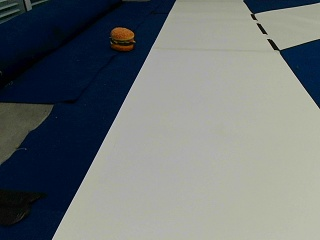burger: (109, 25, 135, 51)
